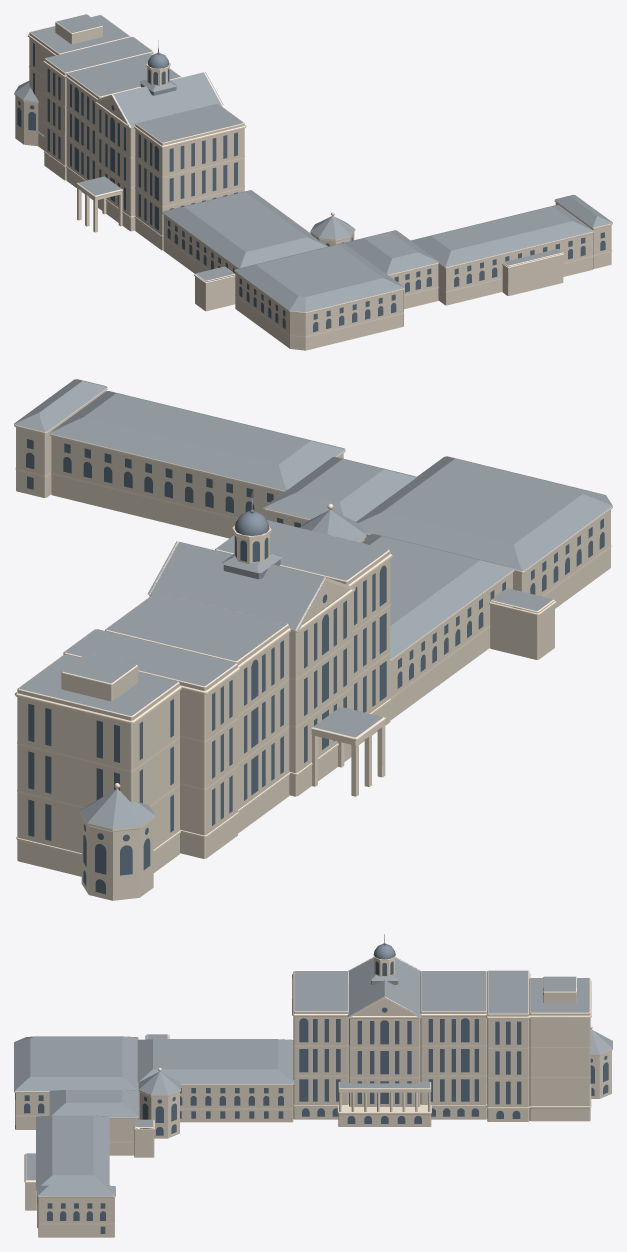
The model's file is ballantyne-hotel.glb.
3 views of the same model, one above another, from view 1: azimuth 30°, elevation 25°; view 2: azimuth 150°, elevation 25°; view 3: azimuth 270°, elevation 25° (orthographic). The views are drawn at different scales.
Parts seen in each view (by area): view 1: The Ballantyne Hotel; view 2: The Ballantyne Hotel; view 3: The Ballantyne Hotel.
Part boxes in pixels (x1=…): The Ballantyne Hotel: x1=14, y1=14, x2=612, y2=350; The Ballantyne Hotel: x1=14, y1=379, x2=612, y2=900; The Ballantyne Hotel: x1=14, y1=934, x2=612, y2=1237.
Bounding box in the file's own units: 122 × 55.05 × 176.
